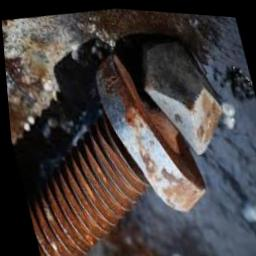Corroded-Bolt: (22, 51, 203, 256)
